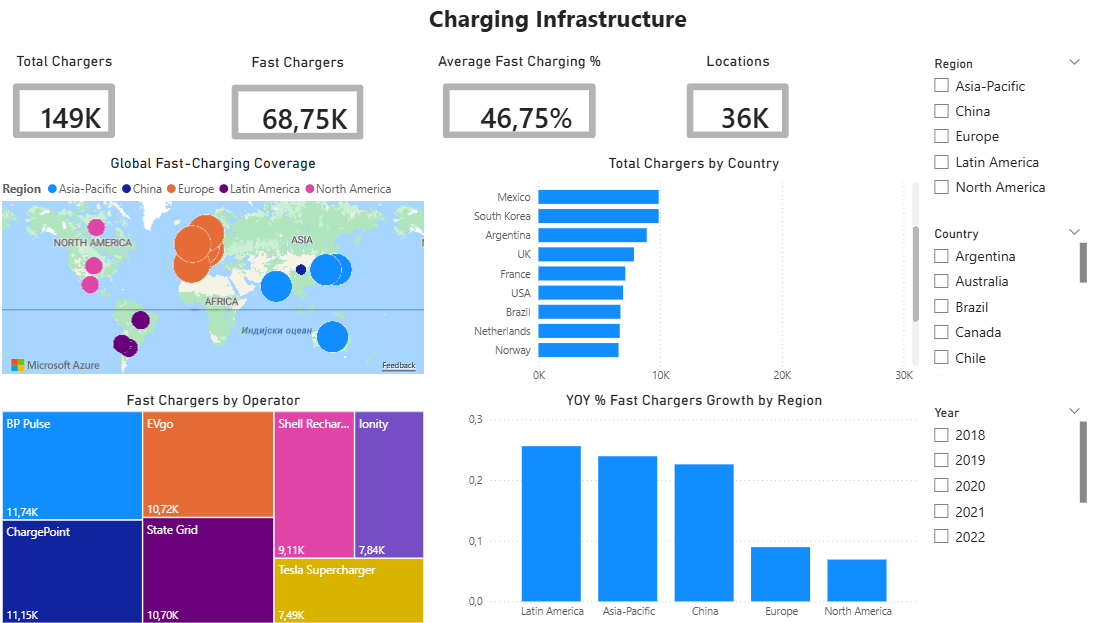

The dashboard page shown, as its layout file describes it:
{"tool":"powerbi","page":{"name":"Charging Infrastructure","canvas":[1280,720],"ordinal":1},"visuals":[{"type":"azureMap","title":" Global Fast-Charging Coverage","fields":{"Category":["DimCountry.Country"],"Size":["Charging_Infrastructure.Fast Chargers (Count)"],"Series":["DimRegion.Region"]},"box":[0,178.9,492,256.8],"z":0},{"type":"textbox","box":[0,0,1280,47.7],"z":1000},{"type":"columnChart","title":"YOY % Fast Chargers Growth by Region","fields":{"Category":["DimRegion.Region"],"Y":["Charging_Infrastructure.Fast Chargers YoY %"]},"box":[532.4,448.7,525.2,271.2],"z":2000},{"type":"clusteredBarChart","fields":{"Y":["Charging_Infrastructure.Total Chargers"],"Category":["Charging_Infrastructure.Country"]},"box":[532.4,178.9,525.2,271.2],"z":3000},{"type":"cardVisual","title":"Total Chargers","fields":{"Data":["Sum(Charging_Infrastructure.TotalChargers)"]},"box":[0,62,151.5,116.9],"z":4000},{"type":"cardVisual","title":"Fast Chargers","fields":{"Data":["Charging_Infrastructure.Fast Chargers (Count)"]},"box":[250.2,62.2,185.4,116.8],"z":5000},{"type":"cardVisual","title":"Average Fast Charging %","fields":{"Data":["Charging_Infrastructure.Avg Fast Charging %"]},"box":[492.1,62.1,209.5,116.4],"z":6000},{"type":"cardVisual","title":"Locations","fields":{"Data":["Charging_Infrastructure.Total Charging Locations"]},"box":[770.4,62,151.5,116.9],"z":7000},{"type":"treemap","title":"Fast Chargers by Operator","fields":{"Group":["Charging_Infrastructure.Operator"],"Values":["Charging_Infrastructure.Fast Chargers (Count)"]},"box":[0,448.7,492,271.2],"z":8000},{"type":"slicer","fields":{"Values":["DimRegion.Region"]},"box":[1057.5,62,191.9,180.3],"z":9000},{"type":"slicer","fields":{"Values":["DimCountry.Country"]},"box":[1057.5,255.4,191.9,180.3],"z":10000},{"type":"slicer","fields":{"Values":["DateTable.Year"]},"box":[1057.5,460.2,191.9,176],"z":11000}]}

Visuals, with their boxes in screenshot pixels (x1, y1, x2, y2), scaled from the page's 1280x720 canvas onto the 1115x623 screenshot:
" Global Fast-Charging Coverage" azureMap: detection(0, 155, 429, 377)
textbox: detection(0, 0, 1114, 41)
"YOY % Fast Chargers Growth by Region" columnChart: detection(464, 388, 921, 622)
clusteredBarChart - Charging_Infrastructure.Total Chargers x Charging_Infrastructure.Country: detection(464, 155, 921, 389)
"Total Chargers" cardVisual: detection(0, 54, 132, 155)
"Fast Chargers" cardVisual: detection(218, 54, 379, 155)
"Average Fast Charging %" cardVisual: detection(429, 54, 611, 154)
"Locations" cardVisual: detection(671, 54, 803, 155)
"Fast Chargers by Operator" treemap: detection(0, 388, 429, 622)
slicer - DimRegion.Region: detection(921, 54, 1088, 210)
slicer - DimCountry.Country: detection(921, 221, 1088, 377)
slicer - DateTable.Year: detection(921, 398, 1088, 550)
